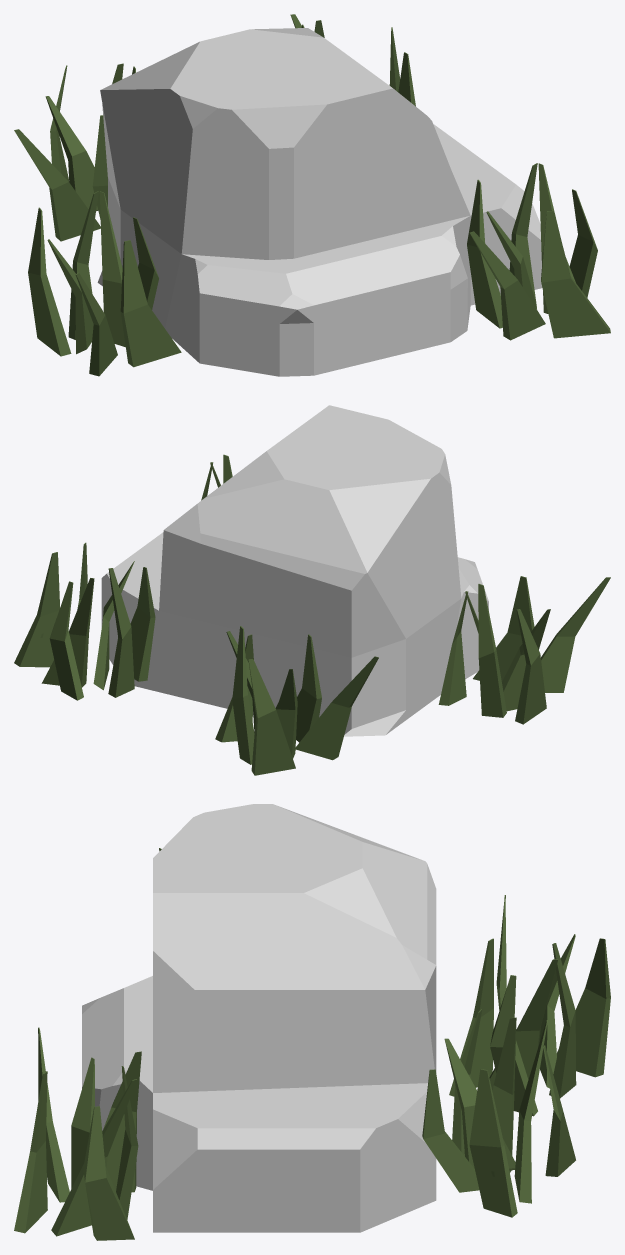
File: kayaCIMLI.fbx
The picture shows the model from 3 angles, top to bottom: view 1: azimuth 30°, elevation 25°; view 2: azimuth 150°, elevation 25°; view 3: azimuth 270°, elevation 25°; orthographic projection. The views are drawn at different scales.
Visible parts, largest first — view 1: Cube, Cube.001; view 2: Cube, Cube.001; view 3: Cube, Cube.001.
Part boxes in pixels (x1=…): Cube: x1=97, y1=28, x2=542, y2=376; Cube.001: x1=14, y1=14, x2=610, y2=376; Cube: x1=101, y1=405, x2=488, y2=736; Cube.001: x1=14, y1=454, x2=610, y2=775; Cube: x1=82, y1=804, x2=436, y2=1232; Cube.001: x1=14, y1=848, x2=610, y2=1240.
Size of the model in its own units: 441 by 204 by 421.
